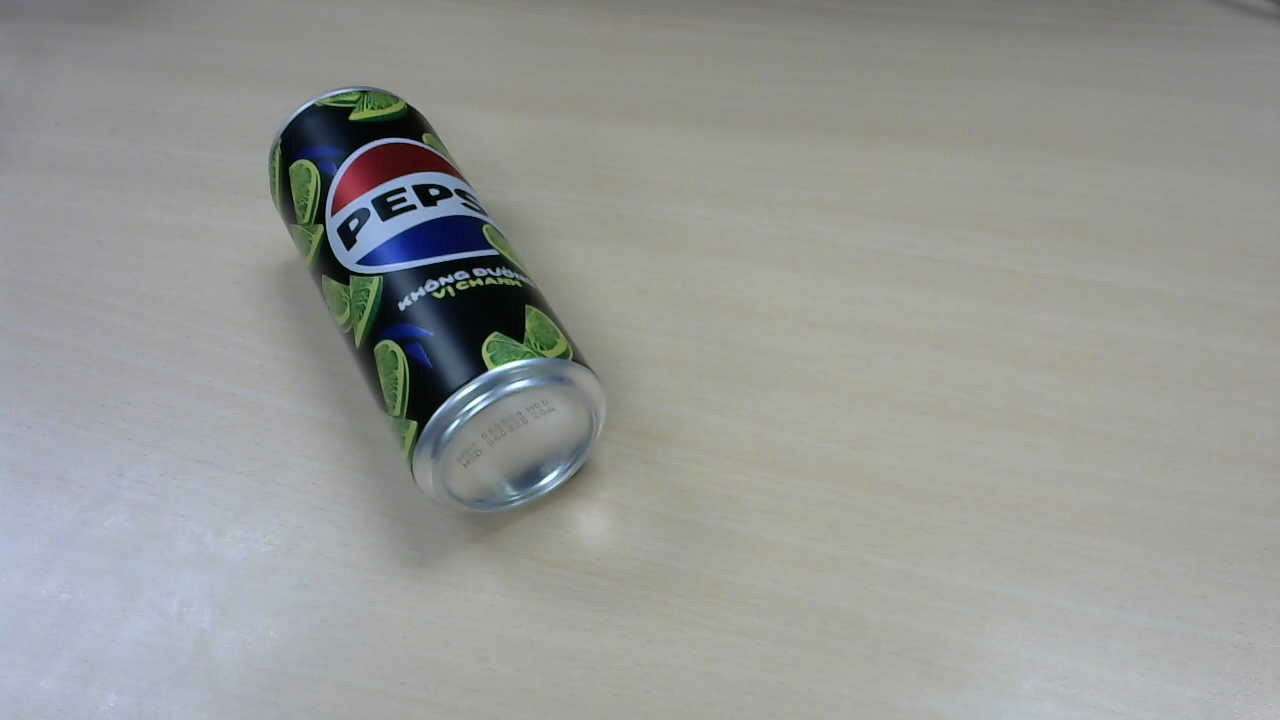Pepsi: (251, 71, 625, 540)
